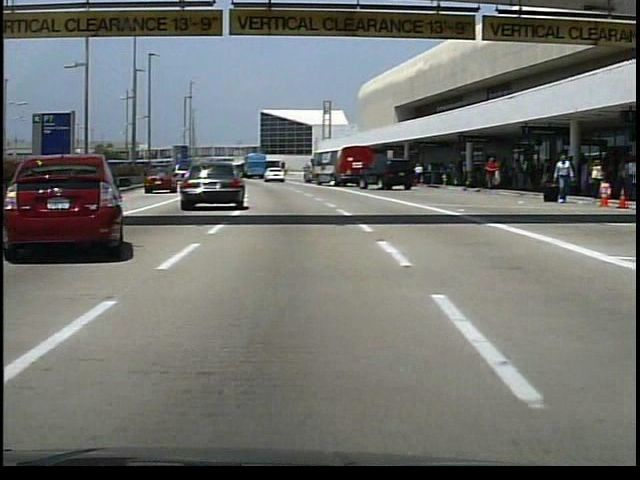person: (548, 152, 574, 203), (483, 155, 502, 189), (521, 154, 536, 189), (456, 157, 467, 186), (413, 163, 425, 188)
